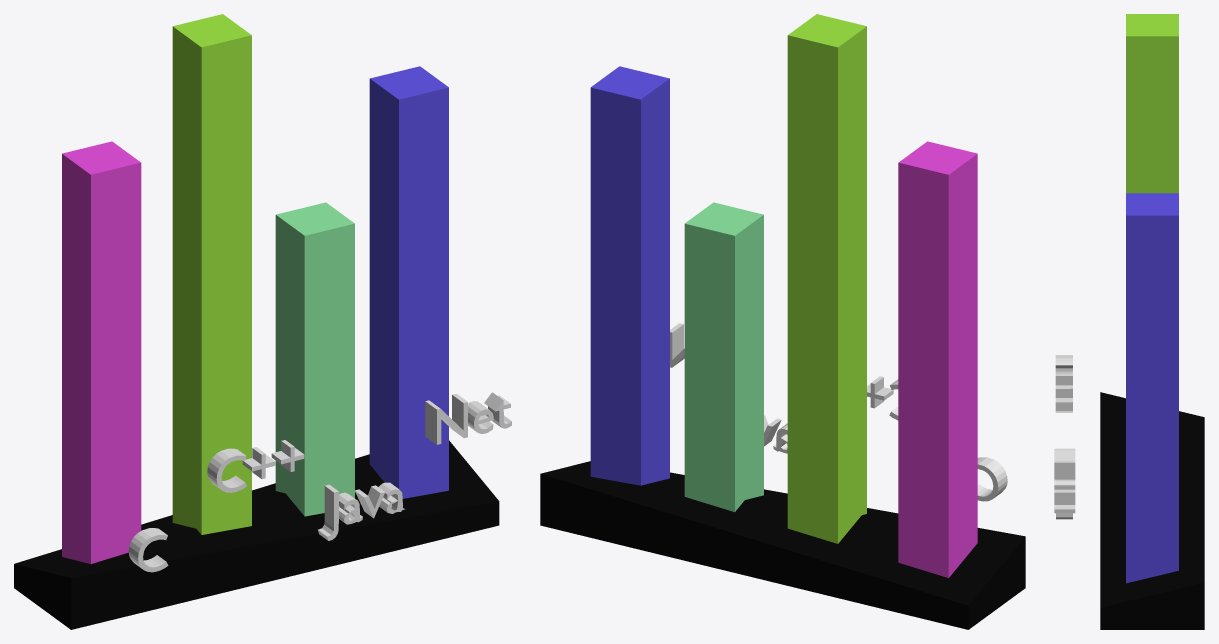
Rendered from AlexLen.glb.
The picture shows the model from 3 angles, left to right: view 1: azimuth 30°, elevation 25°; view 2: azimuth 150°, elevation 25°; view 3: azimuth 270°, elevation 25°; orthographic projection. The views are drawn at different scales.
Parts seen in each view (by area): view 1: Cube.003; view 2: Cube.003; view 3: Cube.003.
Boxes of the visible parts, bbox=[...] form: Cube.003: bbox=[14, 14, 511, 629]; Cube.003: bbox=[540, 14, 1025, 629]; Cube.003: bbox=[1054, 14, 1204, 629].
Size of the model in its own units: 8.65 by 10.36 by 2.89.
